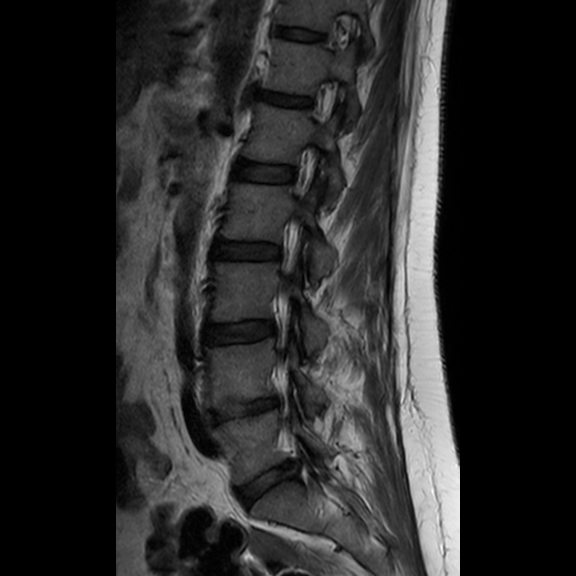LFS0: (287, 130, 331, 207)
